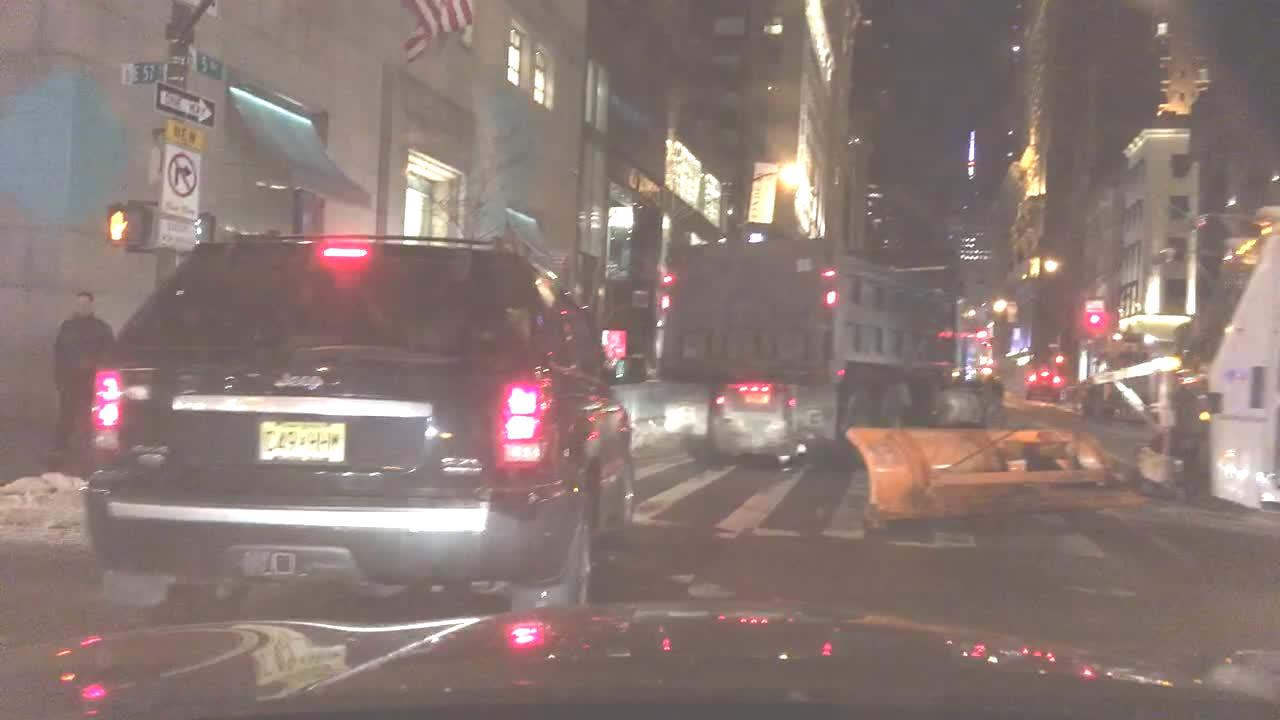jeep: (253, 363, 348, 399)
